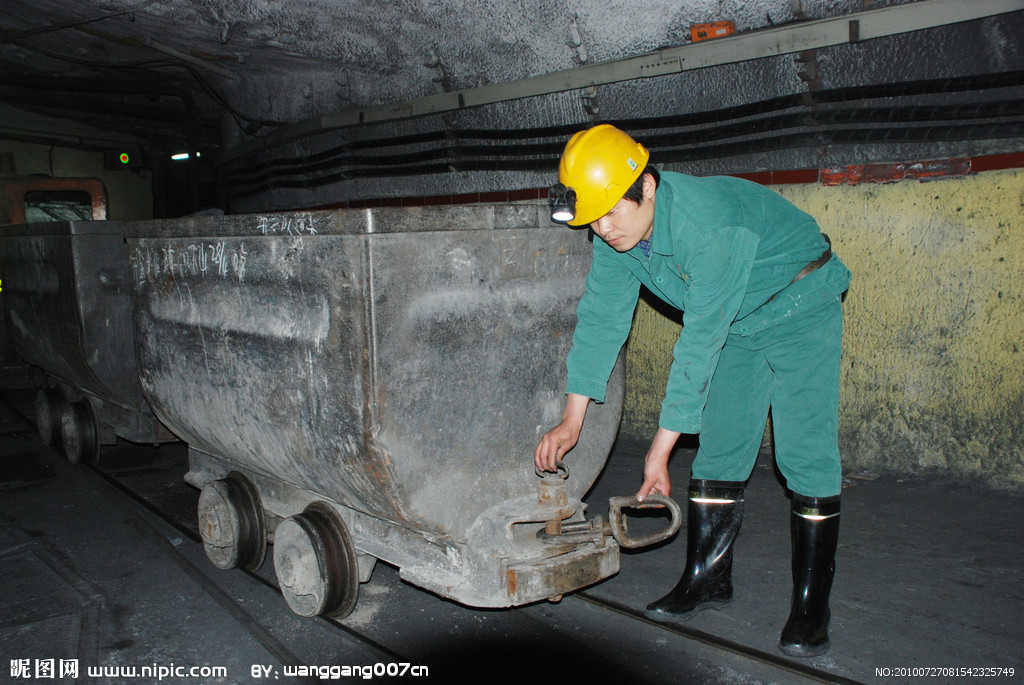helmet: (541, 128, 667, 275)
